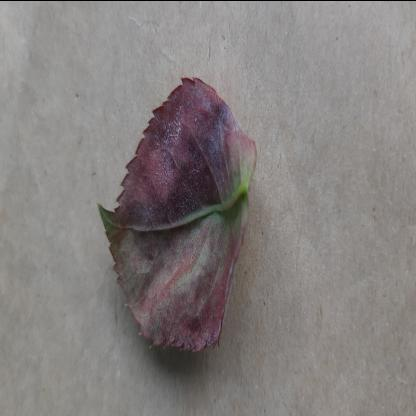powdery-mildew: (98, 64, 254, 372)
